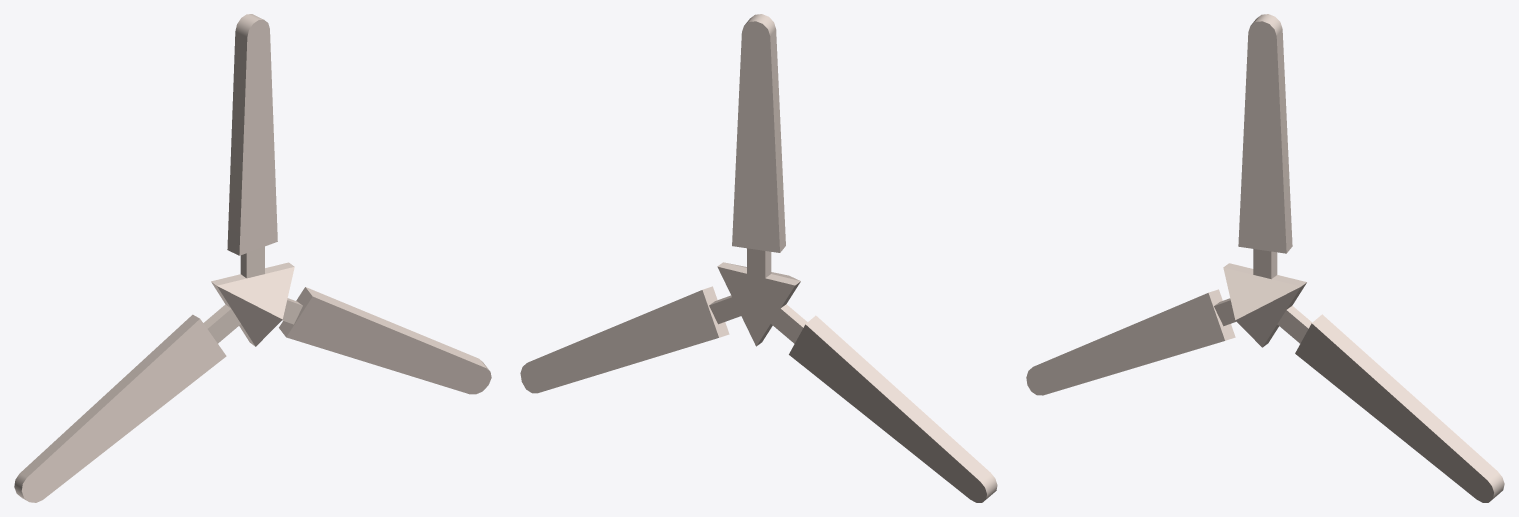
The model's file is weeblTurbineSpin.fbx.
3 renders of one model, left to right at view 1: azimuth 30°, elevation 25°; view 2: azimuth 150°, elevation 25°; view 3: azimuth 330°, elevation 25°, orthographic.
Visible parts, largest first — view 1: polySurface1; view 2: polySurface1; view 3: polySurface1.
Part boxes in pixels (x1,y1,x2,y2): polySurface1: (14, 14, 491, 502); polySurface1: (520, 14, 997, 502); polySurface1: (1026, 14, 1504, 502).
Size of the model in its own units: 324 by 283 by 44.23.
